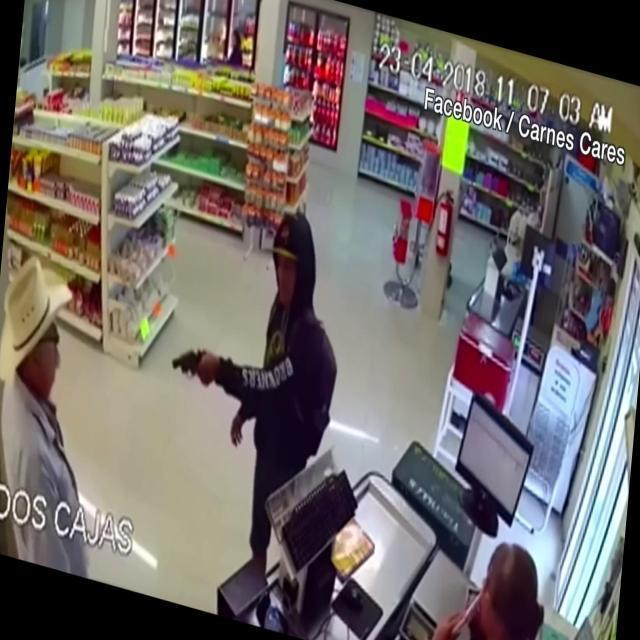pistol: (171, 348, 211, 383)
